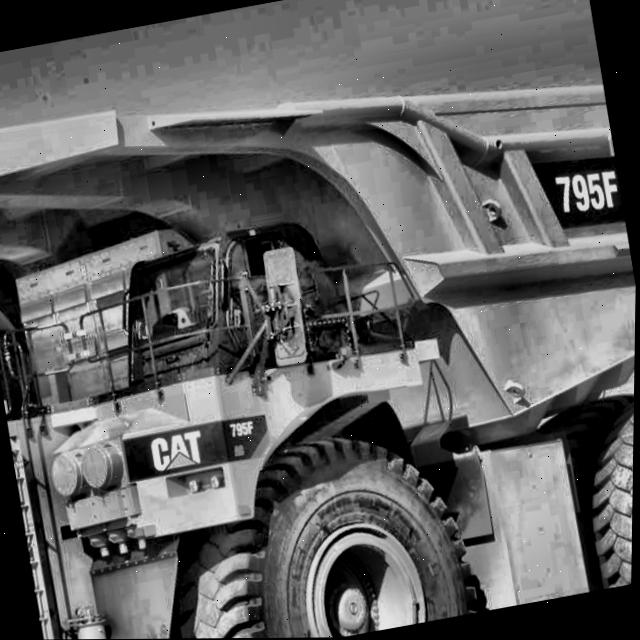dump_truck: (0, 12, 640, 640)
